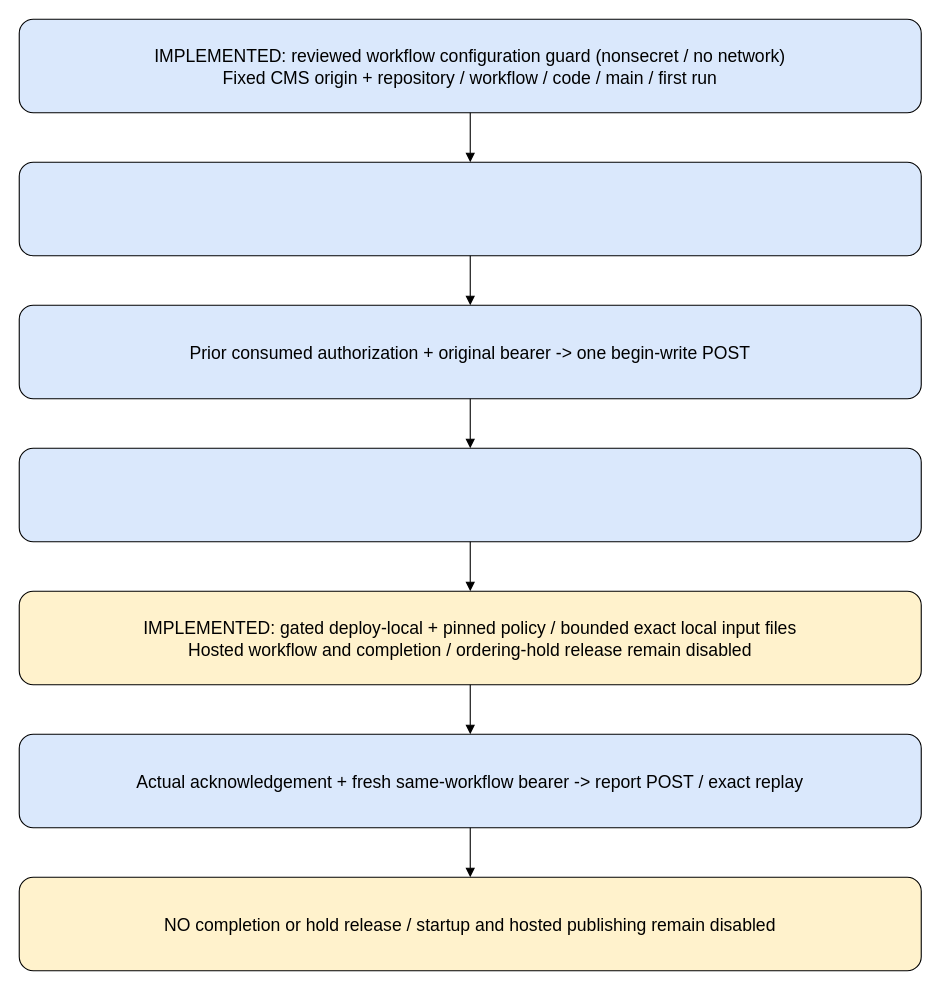
The diagram is 941 pixels wide and 990 high, and some of its shapes have lost their labels. Each missing label, with the centre of its shape:
Reconstruct complete candidate and uploaded archives before network egress: pixel 469 208
Server permanent admission -> exact plan + live deadline <= 10 seconds: pixel 469 494
